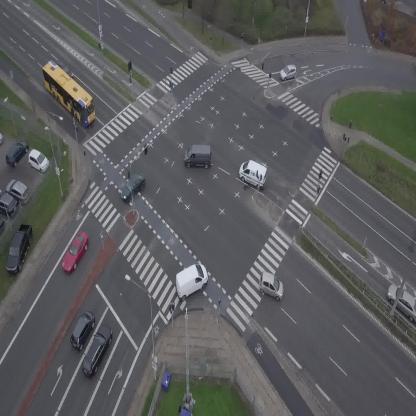bus: (34, 59, 105, 128)
car: (77, 322, 117, 380), (65, 308, 100, 353), (58, 230, 93, 275), (115, 171, 149, 203), (254, 270, 289, 301), (57, 60, 76, 80), (278, 63, 298, 81)
lorry: (168, 260, 214, 302), (234, 157, 273, 192), (184, 144, 211, 169)
